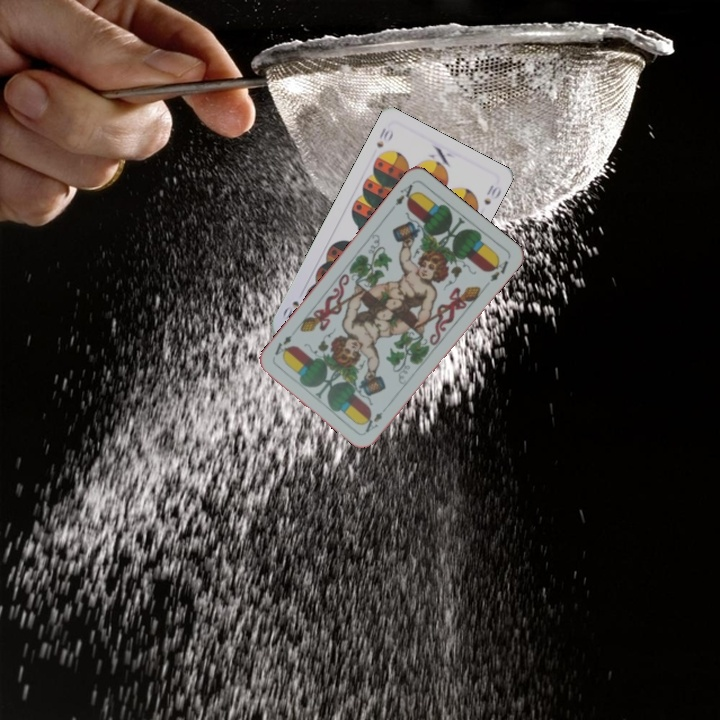EA: (391, 180, 419, 208), (361, 408, 385, 435)
S10: (372, 124, 396, 150)
